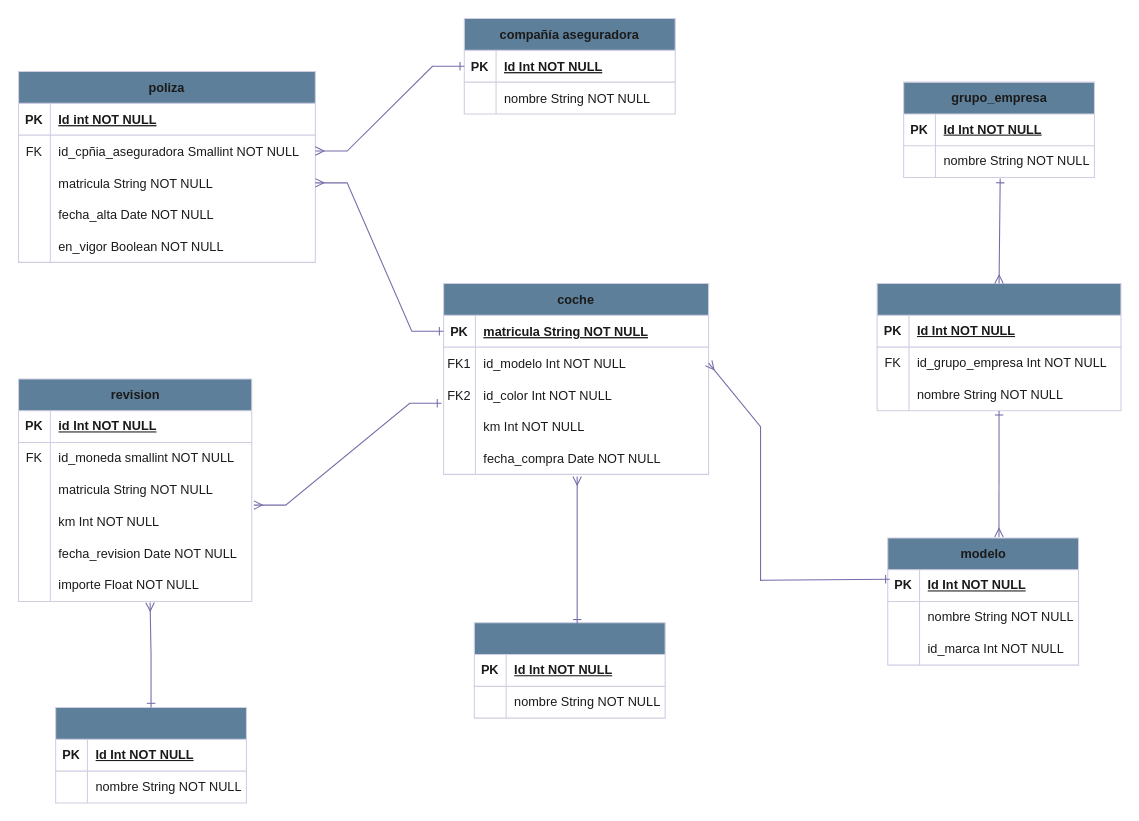
Some shapes in this 1139 by 821 pixel diagram are drawn without their labels. Here are the shapes that lost their labels. From the top down, the box of each, then its label:
(876, 282, 1121, 411): marca
(473, 622, 665, 718): color
(55, 706, 246, 803): moneda
